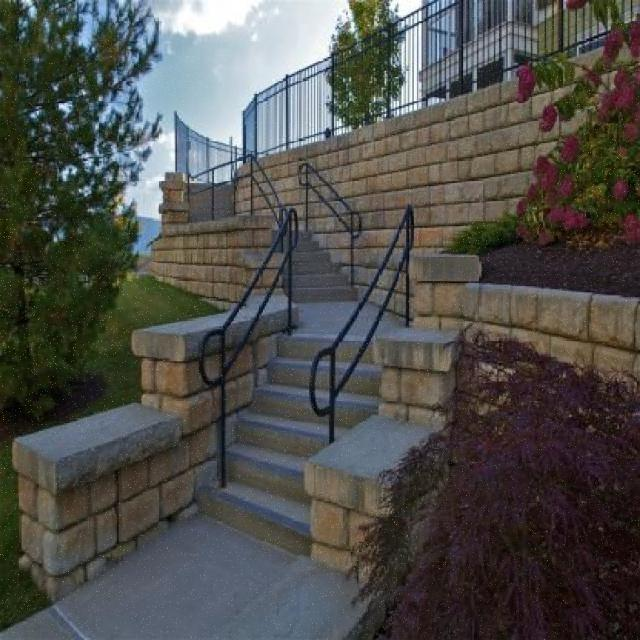stair: (196, 336, 380, 558), (270, 228, 362, 303), (183, 177, 239, 223)
